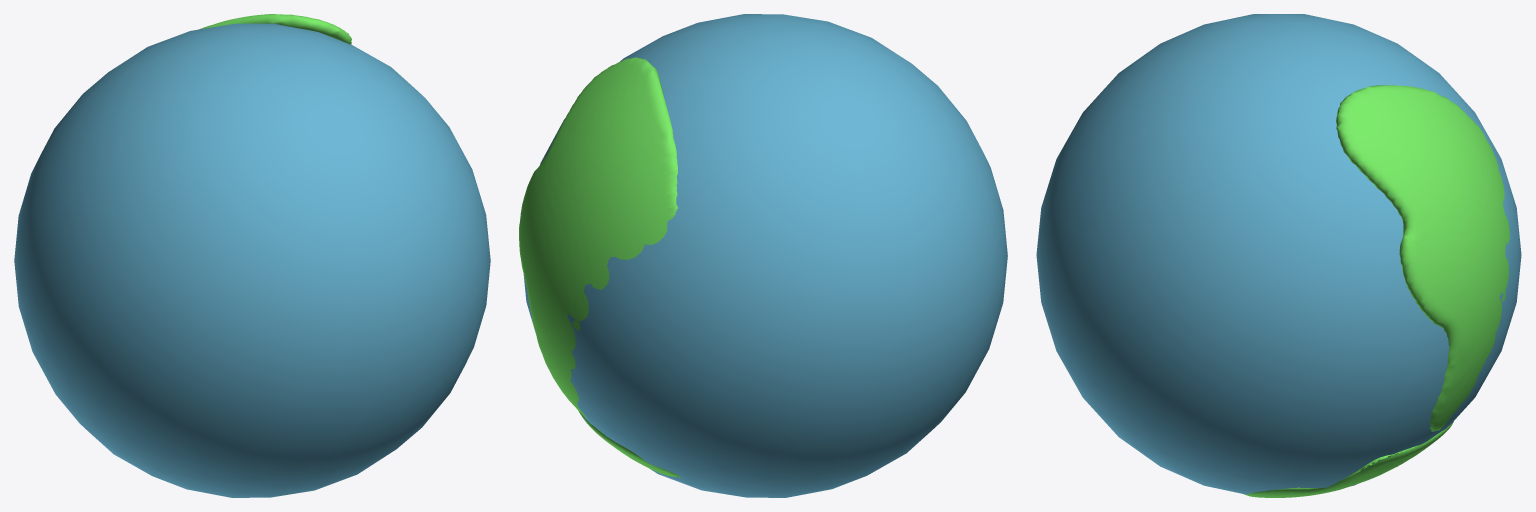
File: globe-transformed.glb
3 views of the same model, side by side, from view 1: azimuth 30°, elevation 25°; view 2: azimuth 150°, elevation 25°; view 3: azimuth 270°, elevation 25° (orthographic). The views are drawn at different scales.
Parts seen in each view (by area): view 1: Globe, Spline.2 (Copy); view 2: Globe, Spline.2 (Copy), Life Together (Copy); view 3: Globe, Spline.2 (Copy), Life Together (Copy).
Part boxes in pixels (bbox=[...]): Globe: bbox=[14, 23, 490, 497]; Spline.2 (Copy): bbox=[199, 14, 351, 44]; Globe: bbox=[523, 14, 1007, 497]; Spline.2 (Copy): bbox=[519, 57, 677, 417]; Life Together (Copy): bbox=[578, 410, 680, 477]; Globe: bbox=[1036, 14, 1521, 494]; Spline.2 (Copy): bbox=[1336, 85, 1509, 431]; Life Together (Copy): bbox=[1243, 421, 1453, 497].
Size of what is drawn, in the model's own units: 0.0995 by 0.1 by 0.1.
Materials: 2 (2 with a texture image).
